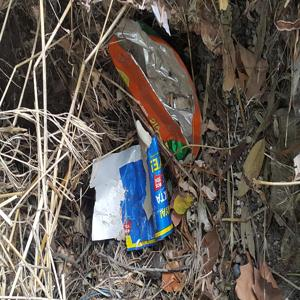plastic: (98, 18, 228, 179), (89, 137, 196, 242)
